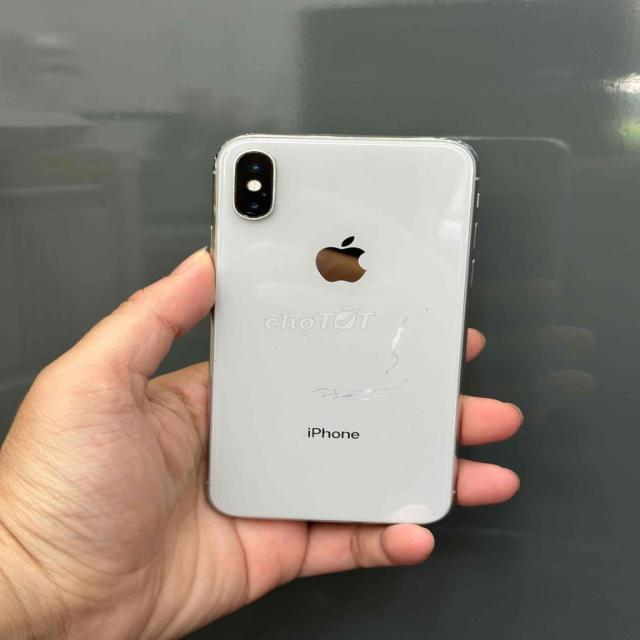scratch: (300, 364, 396, 414), (376, 310, 416, 395), (238, 208, 271, 226)
